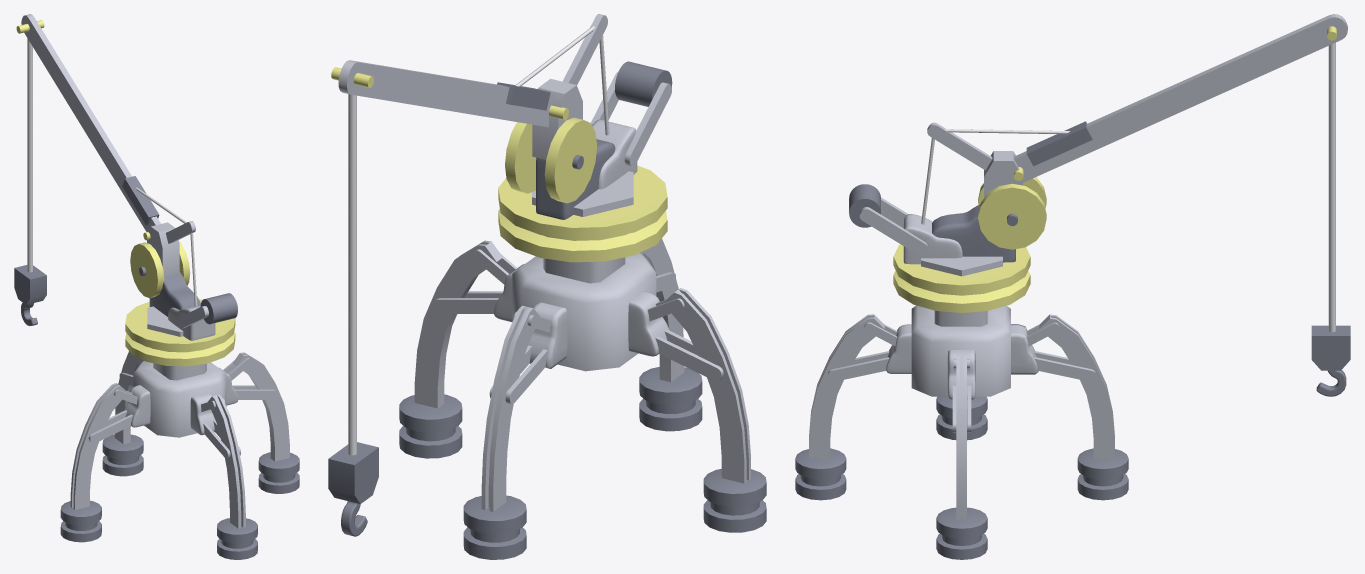
The model's file is crane-for-poly.glb.
3 views of the same model, side by side, from view 1: azimuth 30°, elevation 25°; view 2: azimuth 150°, elevation 25°; view 3: azimuth 270°, elevation 25° (orthographic). The views are drawn at different scales.
Parts seen in each view (by area): view 1: node-0; view 2: node-0; view 3: node-0.
Part boxes in pixels (x1,y1,x2,y2): node-0: (14,14,299,559); node-0: (328,14,766,559); node-0: (795,14,1350,559).
Size of the model in its own units: 46.82 by 73.68 by 77.98.
